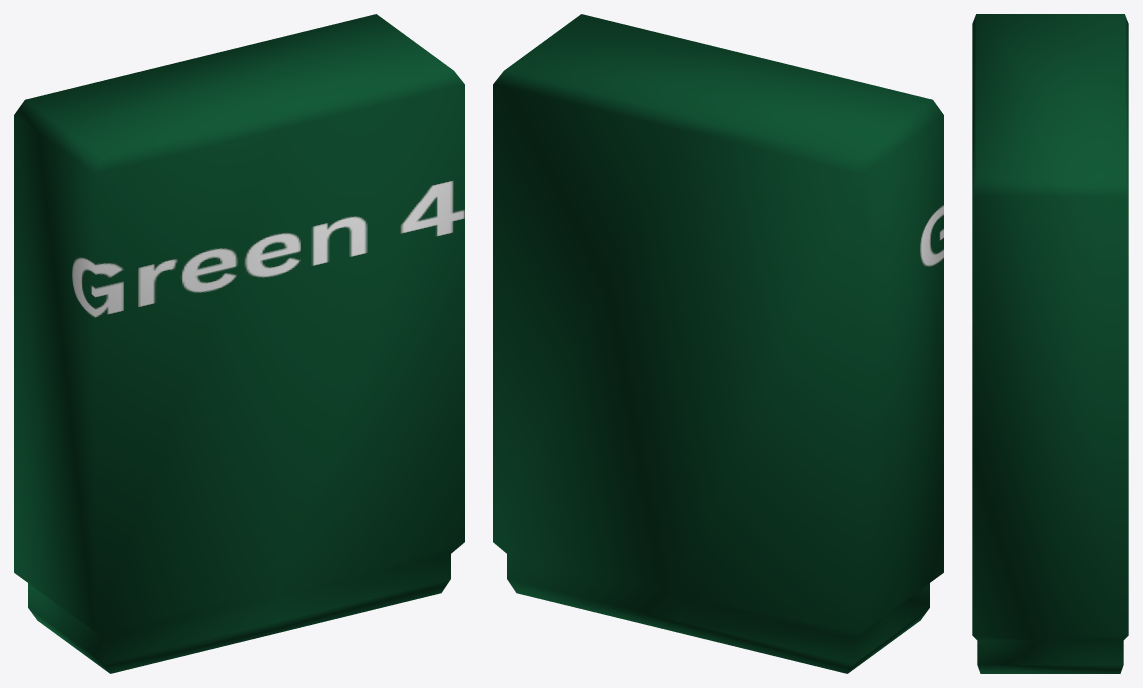
File: boosterboxtest_blank.fbx
3 views of the same model, side by side, from view 1: azimuth 30°, elevation 25°; view 2: azimuth 150°, elevation 25°; view 3: azimuth 270°, elevation 25° (orthographic). The views are drawn at different scales.
Visible parts, largest first — view 1: Cube; view 2: Cube; view 3: Cube.
Part boxes in pixels (<box>): Cube: <box>14,14,464,673</box>; Cube: <box>493,14,943,673</box>; Cube: <box>972,14,1128,673</box>.
Bounding box in the file's own units: 213 × 288 × 81.37.
